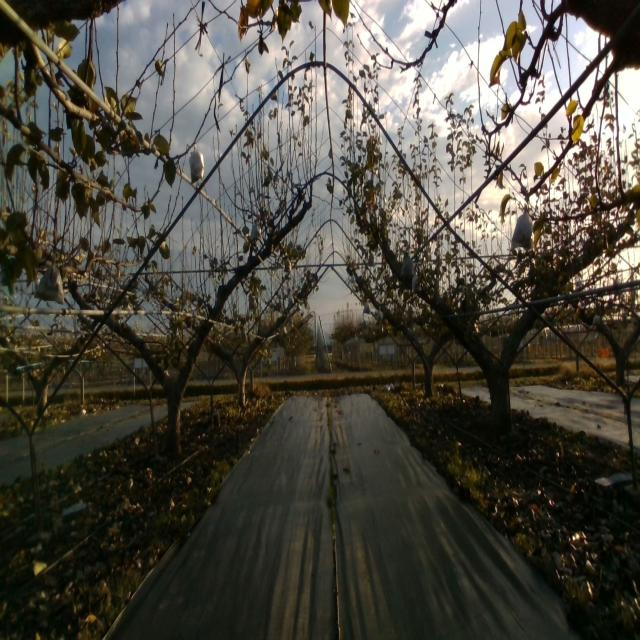pearbags: (511, 204, 534, 252), (188, 143, 204, 185), (248, 218, 264, 244), (400, 252, 413, 278)
